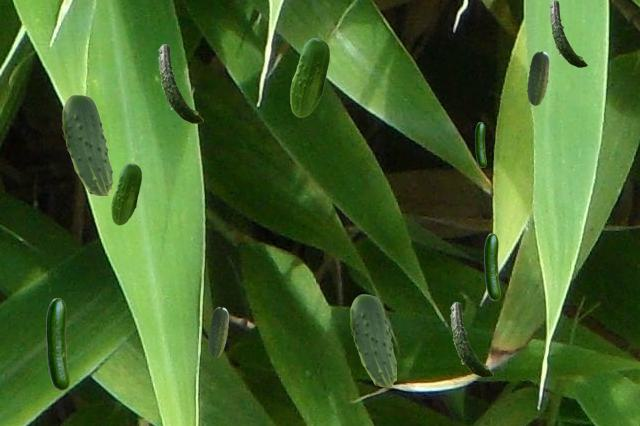cucumber: (62, 94, 111, 194), (350, 294, 395, 385), (158, 44, 202, 122), (450, 302, 492, 376), (290, 38, 328, 116), (549, 0, 586, 66), (46, 298, 68, 389), (111, 163, 140, 224), (527, 51, 548, 104), (484, 233, 499, 299), (208, 307, 227, 356), (475, 122, 485, 166)
